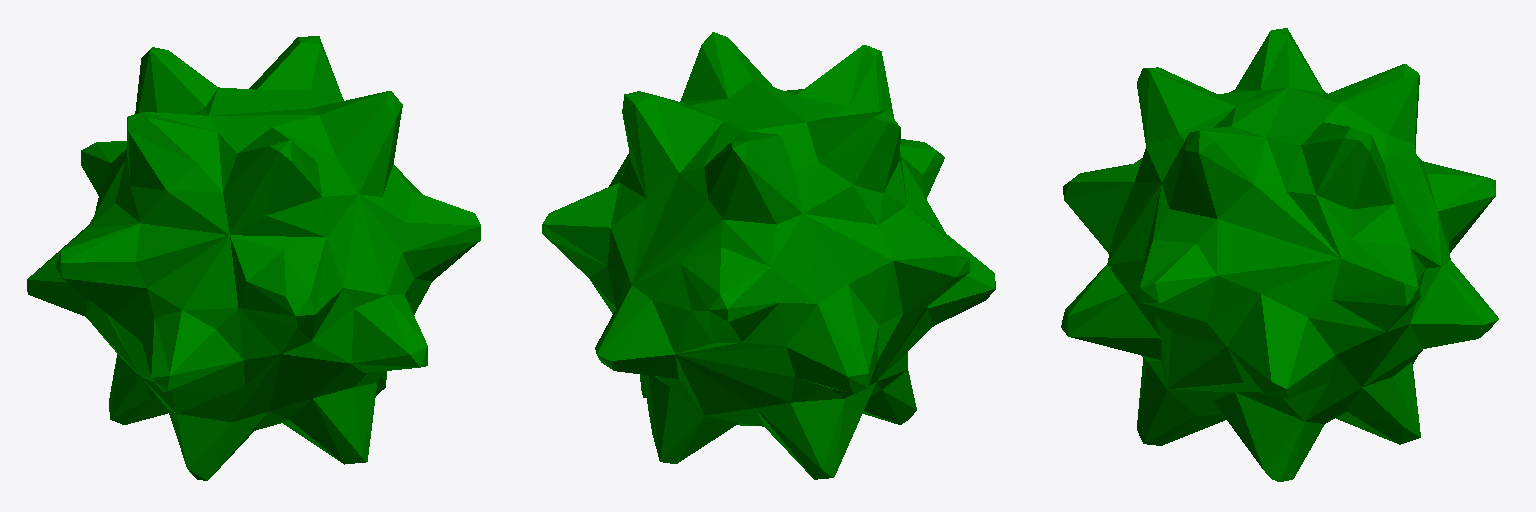
File: konnpeitou.obj
3 views of the same model, side by side, from view 1: azimuth 30°, elevation 25°; view 2: azimuth 150°, elevation 25°; view 3: azimuth 270°, elevation 25° (orthographic).
Parts seen in each view (by area): view 1: ICO球; view 2: ICO球; view 3: ICO球.
Boxes of the visible parts, x1,y1,x2,y2 form: ICO球: [27, 36, 480, 480]; ICO球: [542, 32, 995, 479]; ICO球: [1061, 28, 1498, 481].
Size of the model in its own units: 0.2251 by 0.1862 by 0.2153.